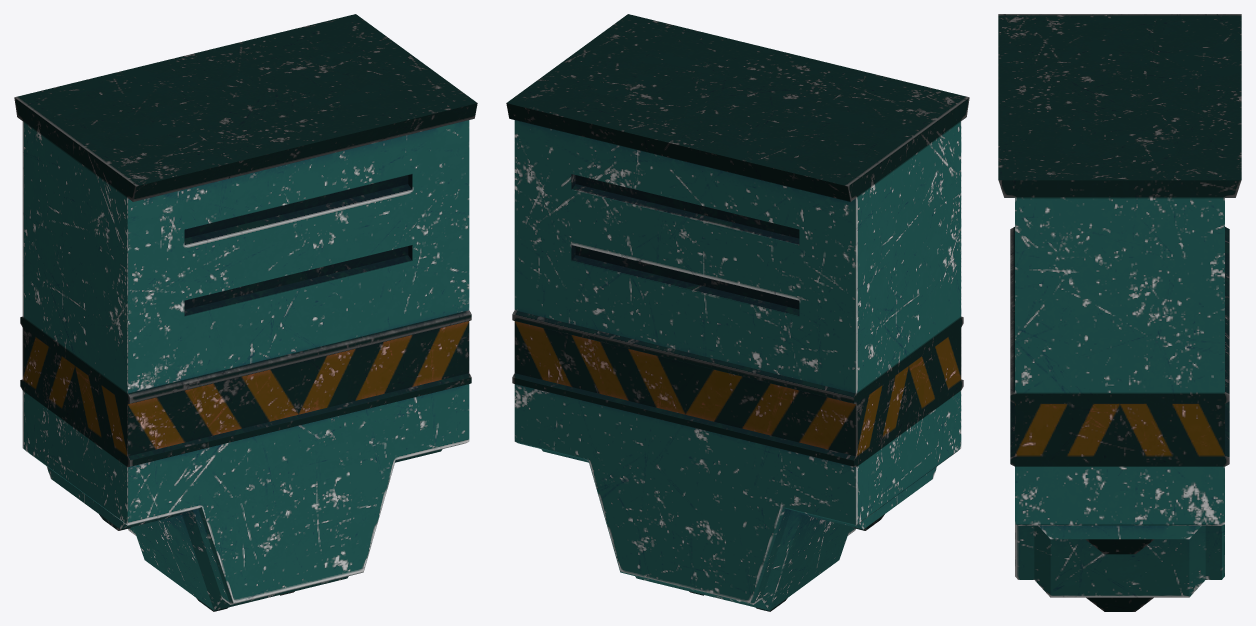
The model's file is Gate_top.fbx.
The picture shows the model from 3 angles, left to right: view 1: azimuth 30°, elevation 25°; view 2: azimuth 150°, elevation 25°; view 3: azimuth 270°, elevation 25°; orthographic projection.
Parts seen in each view (by area): view 1: Cube.001; view 2: Cube.001; view 3: Cube.001.
Part boxes in pixels (box(x1,y1,x2,y2)): Cube.001: box(14, 14, 477, 611); Cube.001: box(506, 14, 969, 611); Cube.001: box(998, 14, 1241, 611).
Size of the model in its own units: 300 by 417 by 185.
